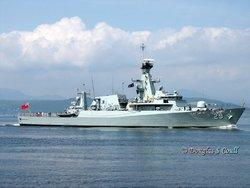warship: (13, 47, 245, 129)
